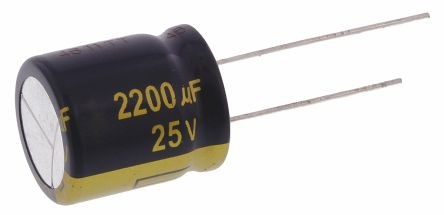capacitor: (9, 27, 268, 207)
